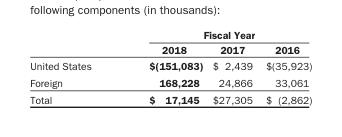table: (29, 28, 311, 105)
table column: (29, 28, 119, 105), (119, 28, 207, 105), (258, 28, 311, 105), (207, 28, 258, 105)
table column header: (29, 28, 311, 57)
table row: (29, 57, 311, 74), (29, 74, 311, 91), (29, 42, 311, 57), (29, 28, 311, 42), (29, 91, 311, 105)
table spanning cell: (119, 28, 311, 42)
